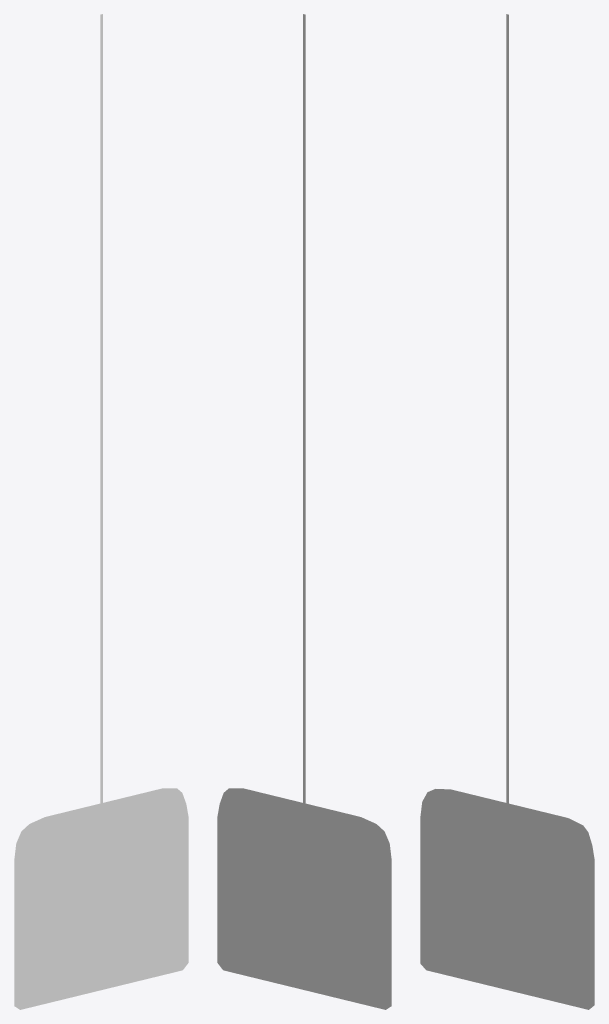
File: SwingSign1.glb
3 views of the same model, side by side, from view 1: azimuth 30°, elevation 25°; view 2: azimuth 150°, elevation 25°; view 3: azimuth 330°, elevation 25° (orthographic).
Visible parts, largest first — view 1: Plane.011; view 2: Plane.011; view 3: Plane.011.
Boxes of the visible parts, x1=… form: Plane.011: x1=14, y1=14, x2=188, y2=1009; Plane.011: x1=217, y1=14, x2=391, y2=1009; Plane.011: x1=420, y1=14, x2=594, y2=1009.
Size of the model in its own units: 0.6337 by 3.38 by 7.19e-09.
2 materials, 1 textured.
